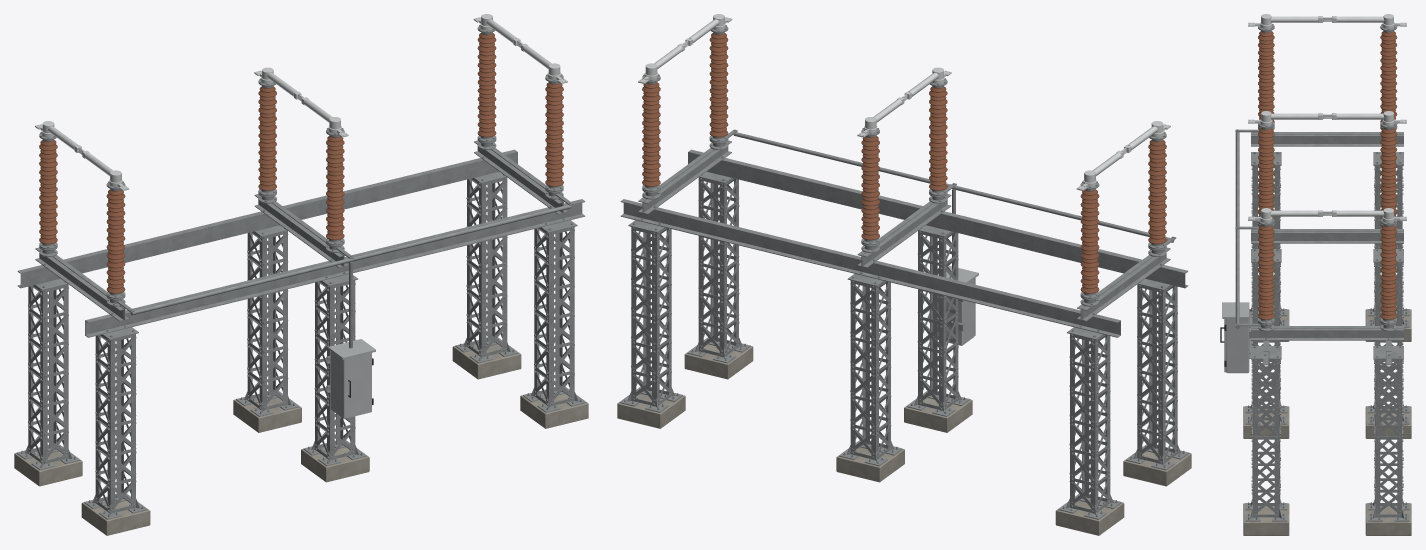
File: Disconnector_CenterBreak_138kV.fbx
The picture shows the model from 3 angles, left to right: view 1: azimuth 30°, elevation 25°; view 2: azimuth 150°, elevation 25°; view 3: azimuth 270°, elevation 25°; orthographic projection. The views are drawn at different scales.
Parts seen in each view (by area): view 1: Body_GalvanizedSteel_LOD0, Body_PorcelainBrown_LOD0, Body_Concrete_LOD0, ControlCabinet_Door_LOD0, Body_CoatedSteel_LOD0; view 2: Body_GalvanizedSteel_LOD0, Body_PorcelainBrown_LOD0, Body_Concrete_LOD0, Body_CoatedSteel_LOD0; view 3: Body_GalvanizedSteel_LOD0, Body_PorcelainBrown_LOD0, Body_Concrete_LOD0, Body_CoatedSteel_LOD0, Body_Aluminium_LOD0, Blade_1B_LOD0, Blade_2B_LOD0, Blade_3B_LOD0, Blade_1A_LOD0, Blade_2A_LOD0, Blade_3A_LOD0.
Part boxes in pixels (x1,y1,x2,y2): Body_GalvanizedSteel_LOD0: (16, 25, 586, 519); Body_PorcelainBrown_LOD0: (39, 33, 563, 293); Body_Concrete_LOD0: (14, 337, 588, 535); ControlCabinet_Door_LOD0: (343, 353, 371, 418); Body_CoatedSteel_LOD0: (328, 339, 375, 418); Body_GalvanizedSteel_LOD0: (619, 25, 1189, 519); Body_PorcelainBrown_LOD0: (642, 33, 1166, 293); Body_Concrete_LOD0: (617, 337, 1191, 535); Body_CoatedSteel_LOD0: (937, 265, 978, 345); Body_GalvanizedSteel_LOD0: (1235, 24, 1409, 521); Body_PorcelainBrown_LOD0: (1258, 31, 1397, 319); Body_Concrete_LOD0: (1243, 309, 1411, 535); Body_CoatedSteel_LOD0: (1222, 302, 1249, 373); Body_Aluminium_LOD0: (1248, 22, 1406, 222); Blade_1B_LOD0: (1324, 14, 1393, 25); Blade_2B_LOD0: (1324, 111, 1393, 122); Blade_3B_LOD0: (1324, 208, 1393, 219); Blade_1A_LOD0: (1261, 14, 1330, 25); Blade_2A_LOD0: (1261, 111, 1330, 122); Blade_3A_LOD0: (1261, 208, 1330, 219).
Size of what is drawn, in the model's own units: 6.8 by 4.56 by 2.5.
